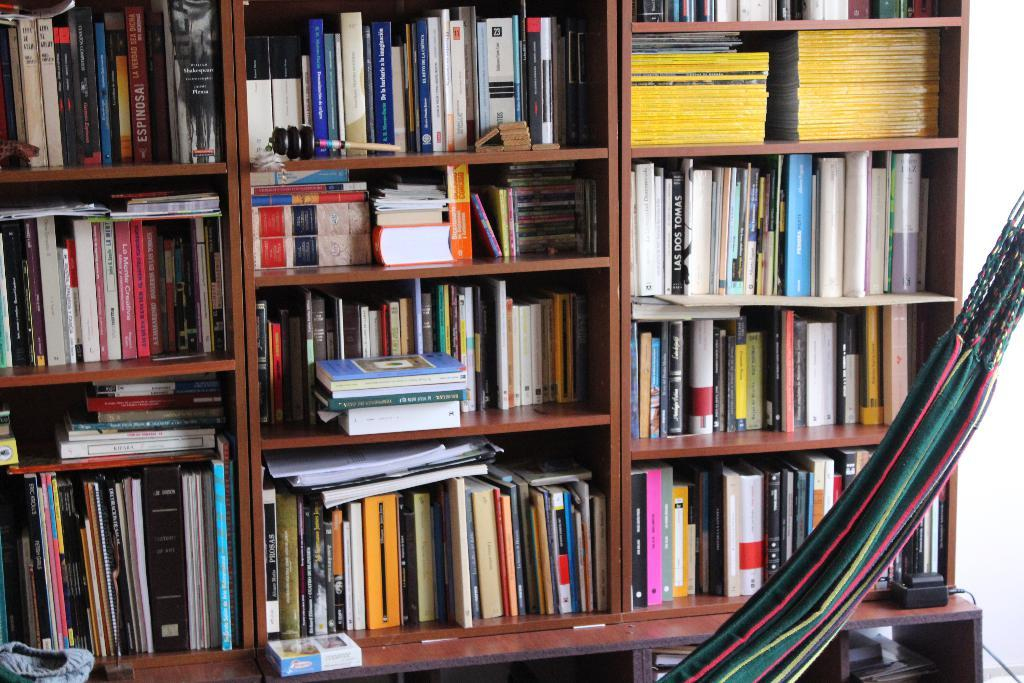Luggage-and-bags: (652, 190, 1022, 681)
